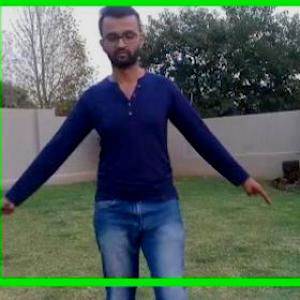land: (1, 17, 270, 299)
